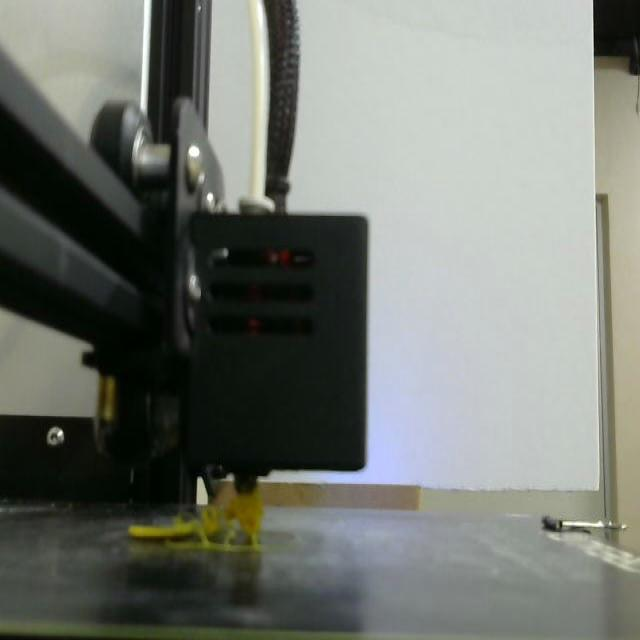spaghetti: (129, 473, 264, 551)
